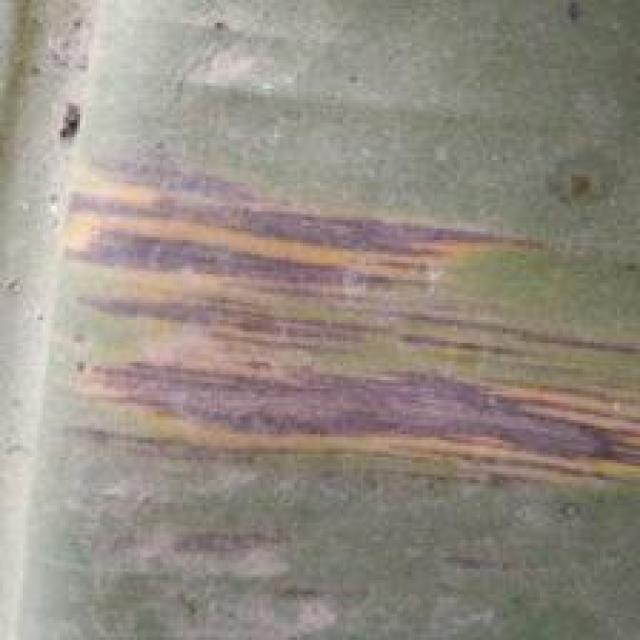Early_leaf_spot: (37, 154, 640, 506)
